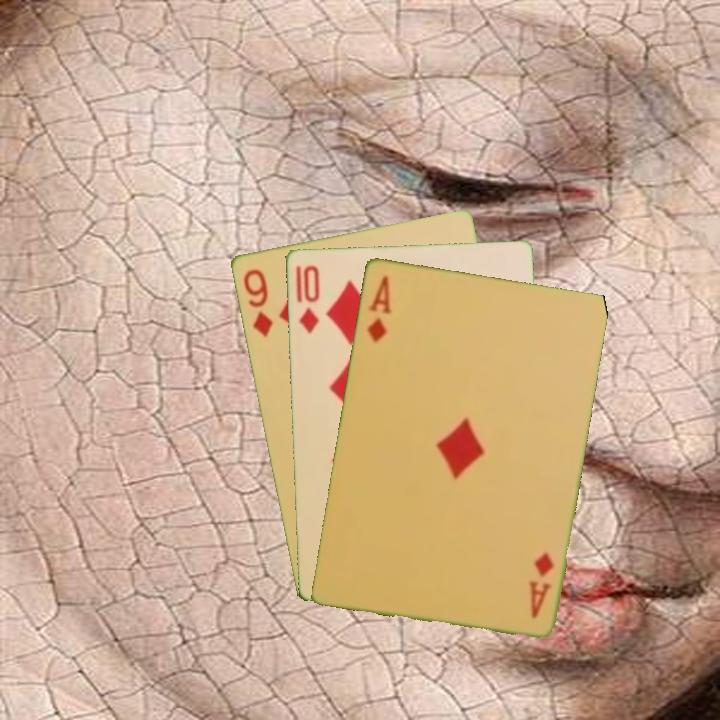10d: (295, 261, 322, 336)
9d: (239, 265, 276, 339)
Ad: (525, 547, 557, 621), (363, 271, 394, 345)
